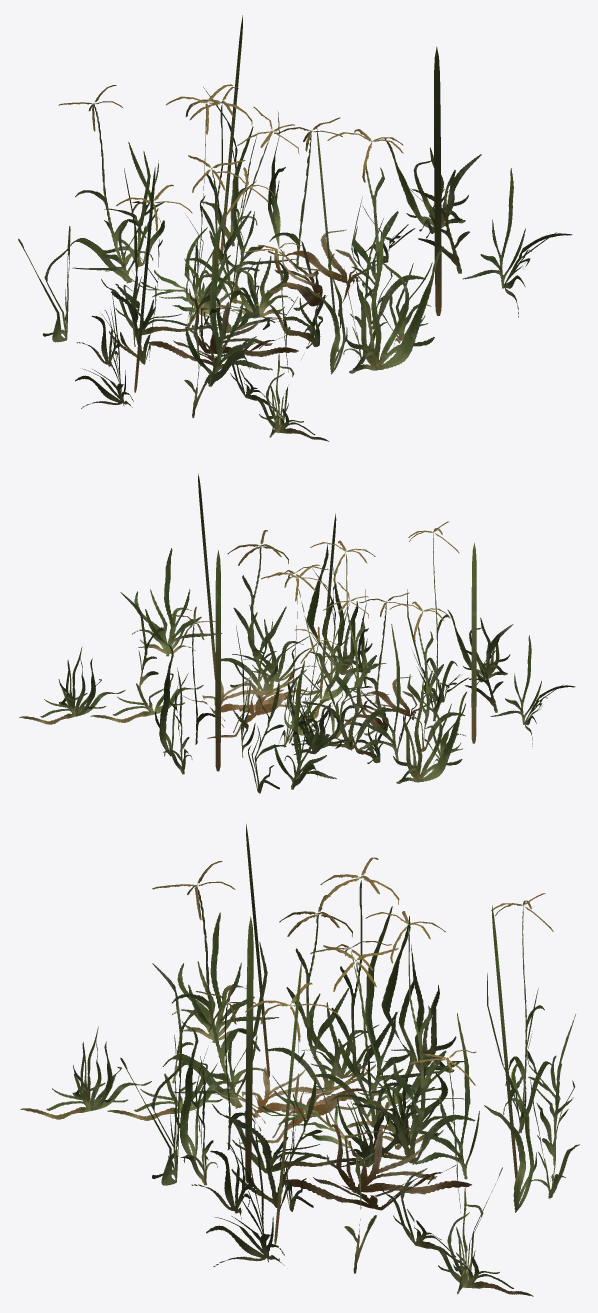
File: veg-grass-bermuda-2c396e5f84ec.glb
3 views of the same model, one above another, from view 1: azimuth 30°, elevation 25°; view 2: azimuth 150°, elevation 25°; view 3: azimuth 270°, elevation 25° (orthographic). The views are drawn at different scales.
Visible parts, largest first — view 1: veg-grass-bermuda; view 2: veg-grass-bermuda; view 3: veg-grass-bermuda.
Part boxes in pixels (left/top/right/bottom): veg-grass-bermuda: left=18, top=15, right=572, bottom=441; veg-grass-bermuda: left=19, top=473, right=575, bottom=793; veg-grass-bermuda: left=20, top=824, right=579, bottom=1296.
Size of the model in its own units: 0.5087 by 0.24 by 0.4265.
1 material, 1 textured.
